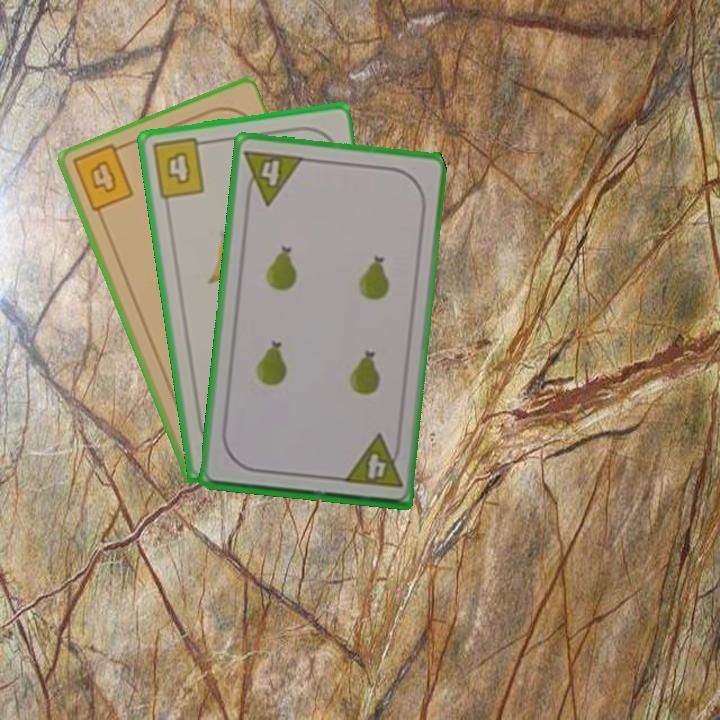4b: (69, 139, 136, 215), (148, 135, 212, 202)
4p: (241, 146, 306, 208), (340, 431, 405, 491)
